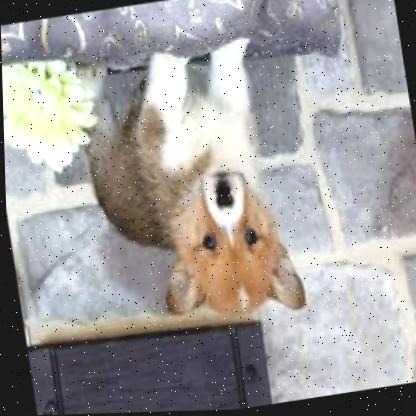dog: (71, 30, 308, 339)
